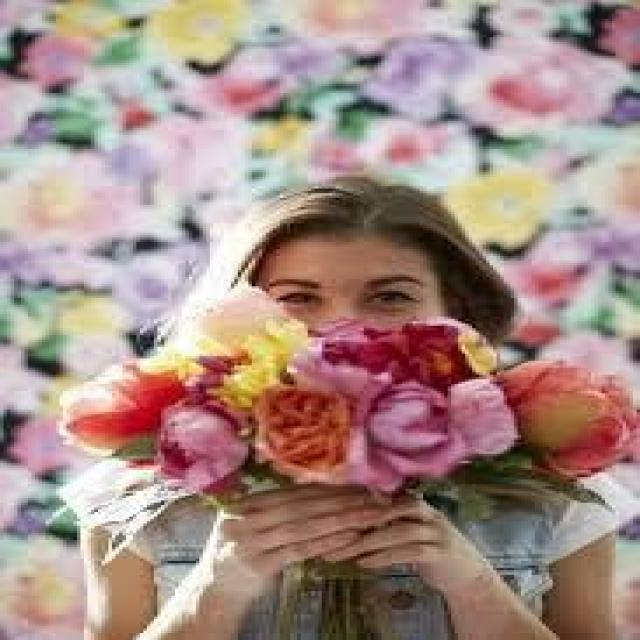organic waste: (54, 346, 222, 457), (338, 372, 463, 491), (176, 279, 310, 384), (504, 368, 633, 470), (243, 381, 359, 485), (313, 318, 467, 388), (147, 408, 248, 472)
